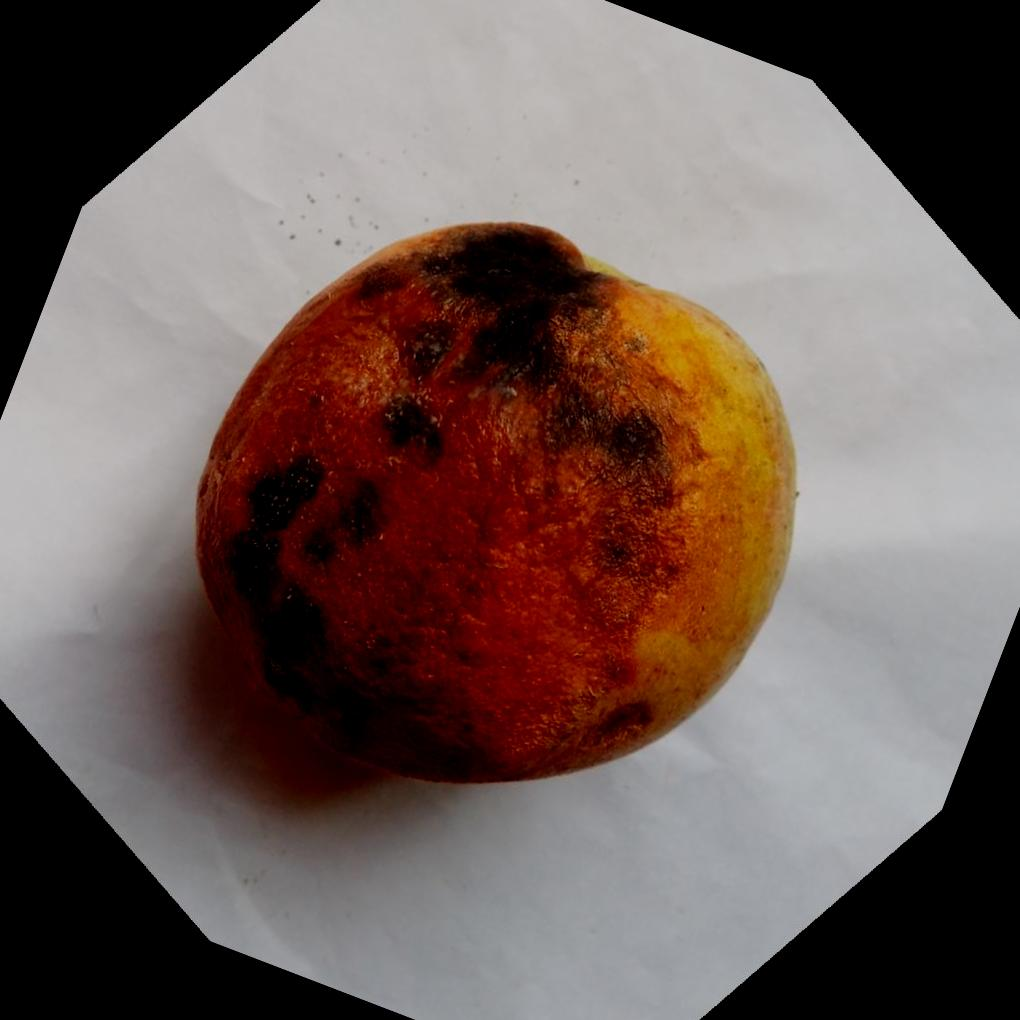FreshOrange: (189, 216, 797, 786)
